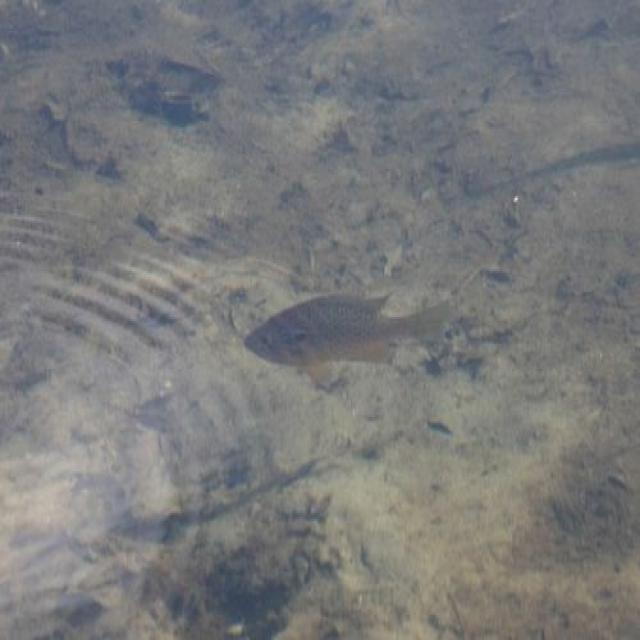Gunes Levregi: (239, 287, 461, 388)
